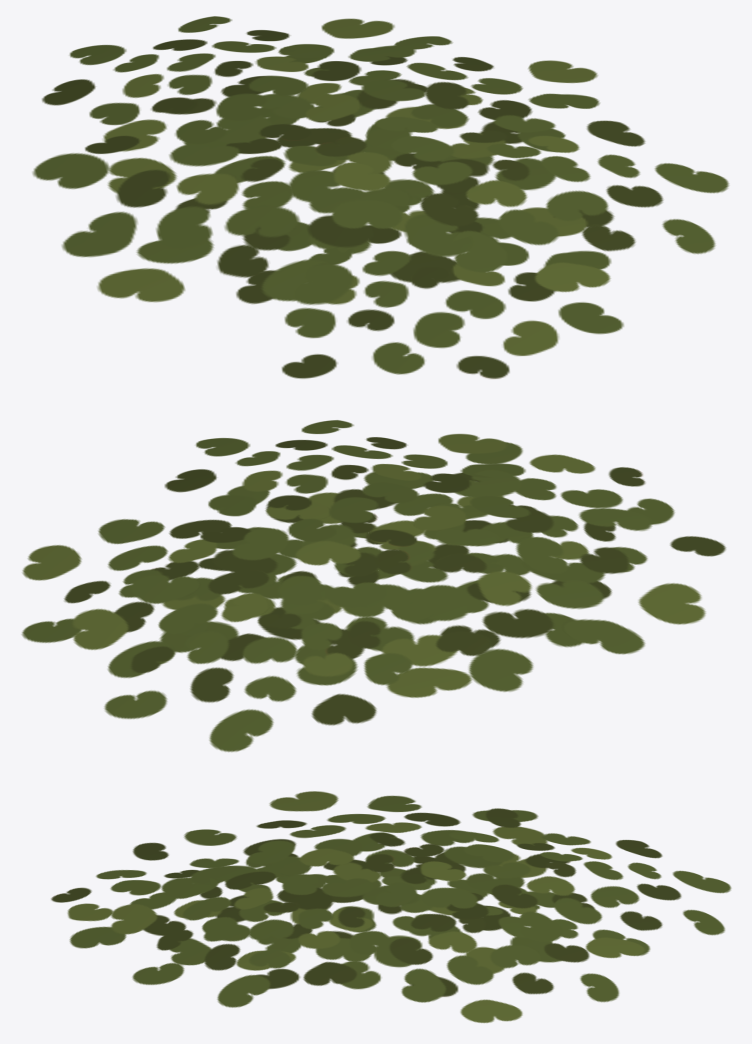
Rendered from Asarabacca_1.glb.
3 renders of one model, top to bottom at view 1: azimuth 30°, elevation 25°; view 2: azimuth 150°, elevation 25°; view 3: azimuth 270°, elevation 25°, orthographic. The views are drawn at different scales.
Visible parts, largest first — view 1: Asarabacca_1; view 2: Asarabacca_1; view 3: Asarabacca_1.
Part boxes in pixels (x1,y1,x2,y2): Asarabacca_1: (32,16,728,378); Asarabacca_1: (21,420,725,751); Asarabacca_1: (51,791,731,1022).
Bounding box in the file's own units: 1.09 × 0.1411 × 1.37.
1 material, 1 textured.
